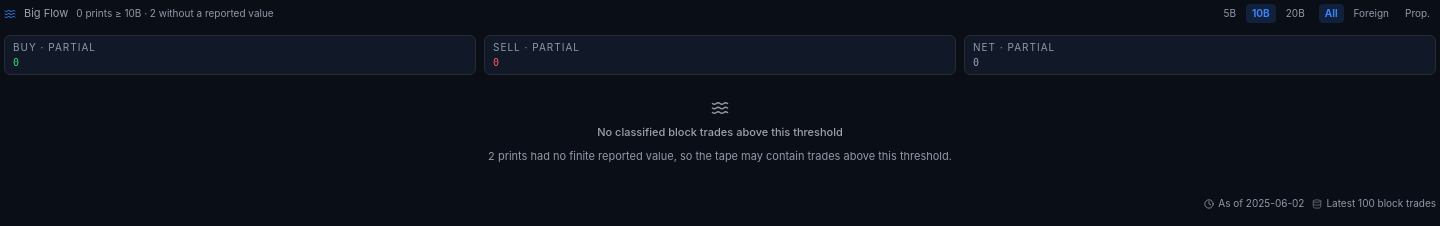
Test: big_flow_monitor provider outcome › applies scope before counting unknown values
This screenshot has width=1440, height=226.
Click the button "Foreign". click: (1371, 14)
box: [1348,4,1395,23]
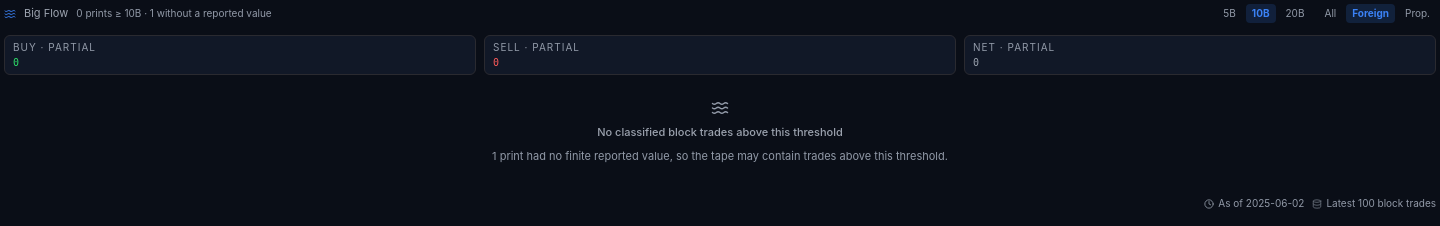
Check: the text "No classified block trades above this threshold" is shown, box [597,125,843,140]
Check: the text "1 print had no finite" is shown, box [492,149,948,163]
